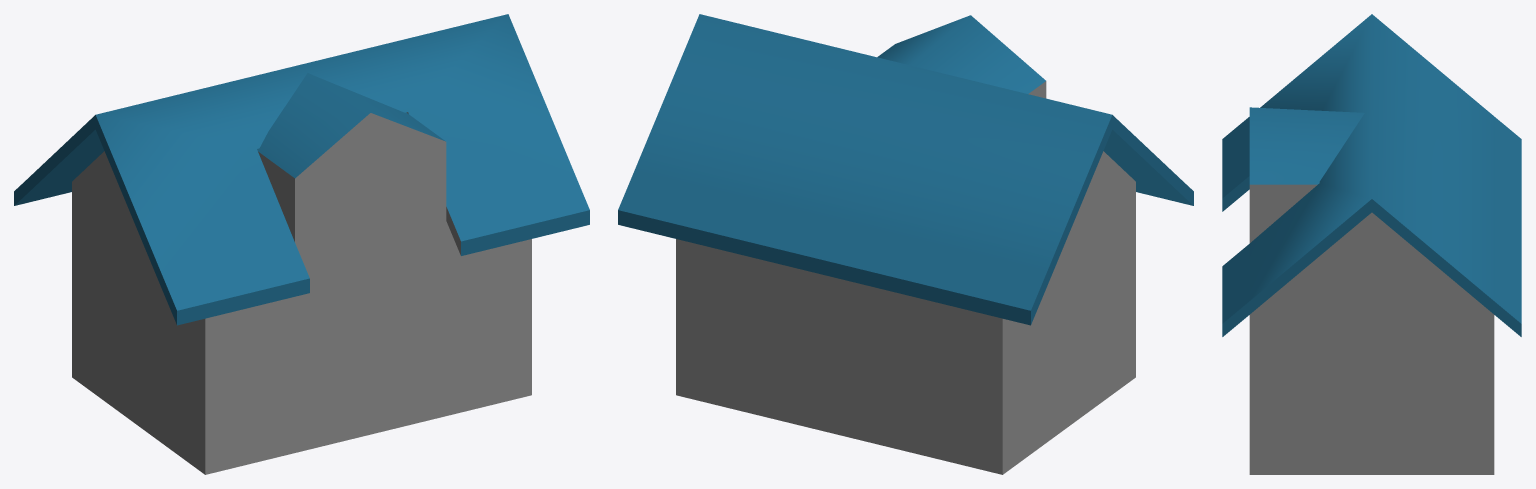
The model's file is HOUSElod3.FBX.
3 views of the same model, side by side, from view 1: azimuth 30°, elevation 25°; view 2: azimuth 150°, elevation 25°; view 3: azimuth 270°, elevation 25° (orthographic). The views are drawn at different scales.
Parts seen in each view (by area): view 1: Box075; view 2: Box075; view 3: Box075.
Boxes of the visible parts, x1,y1,x2,y2 form: Box075: [14, 14, 589, 474]; Box075: [618, 14, 1193, 474]; Box075: [1222, 14, 1521, 474].
Bounding box in the file's own units: 672 × 501 × 460.
